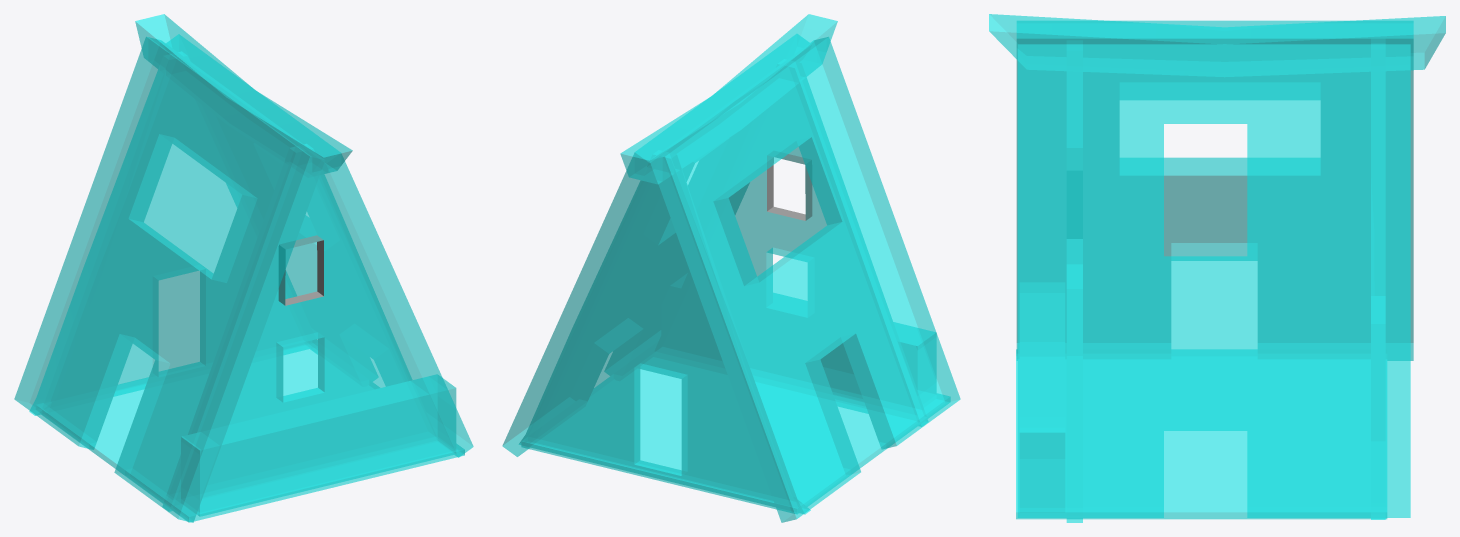
File: SM_Bld_Shack_02_Collision.fbx
The picture shows the model from 3 angles, left to right: view 1: azimuth 30°, elevation 25°; view 2: azimuth 150°, elevation 25°; view 3: azimuth 270°, elevation 25°; orthographic projection. The views are drawn at different scales.
Visible parts, largest first — view 1: SM_Bld_Shack_02_Collision; view 2: SM_Bld_Shack_02_Collision; view 3: SM_Bld_Shack_02_Collision.
Part boxes in pixels (x1,y1,x2,y2): SM_Bld_Shack_02_Collision: (14,14,473,522); SM_Bld_Shack_02_Collision: (502,14,960,522); SM_Bld_Shack_02_Collision: (989,14,1445,522).
Bounding box in the file's own units: 630 × 707 × 695.
